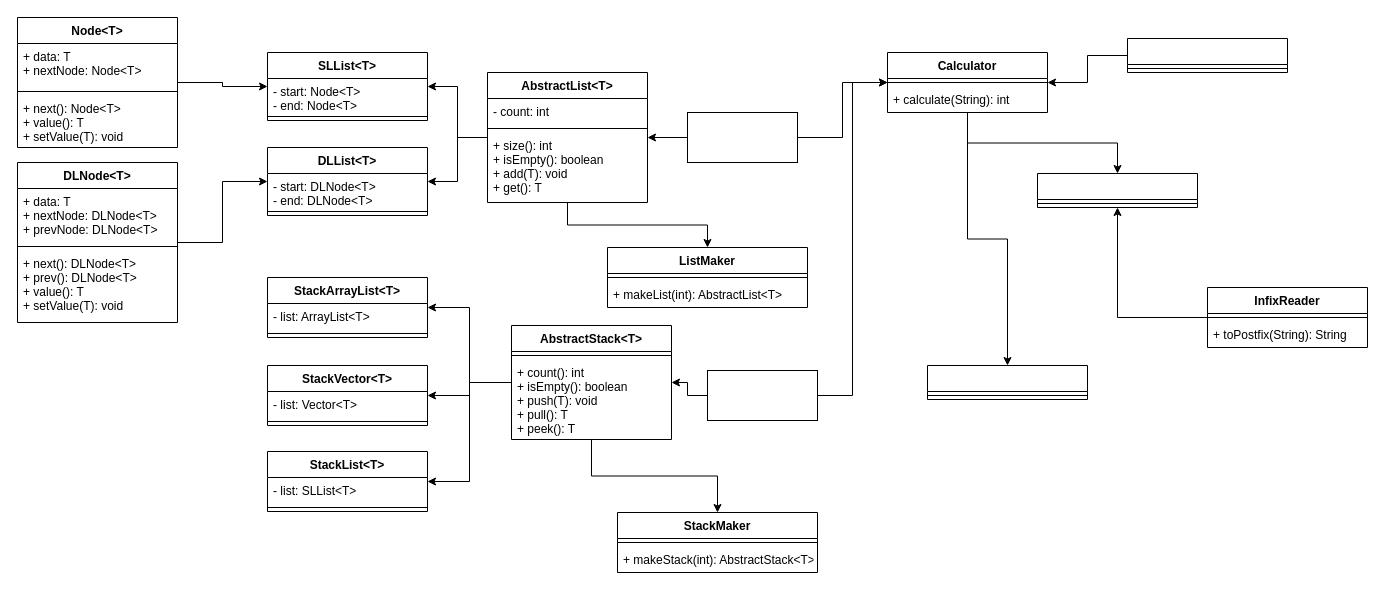
Some shapes in this 1385 by 593 pixel diagram are drawn without their labels. The shapes that lost their labels are listed below. From the top down, each one's centre as x and y in pixels, then its label:
At point (1207, 55): "SingletonException".
At point (742, 137): "«interface» IList<T>".
At point (1117, 190): "DriverProgram".
At point (762, 395): "«interface» IStack<T>".
At point (1007, 382): "UnitTester".
